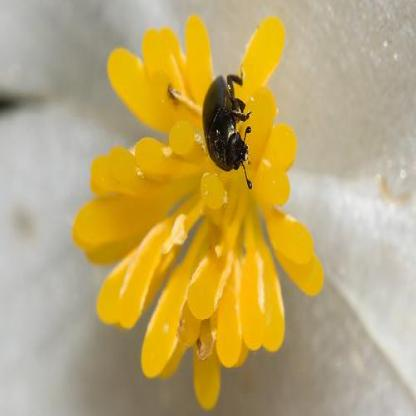beetle: (199, 69, 270, 197)
